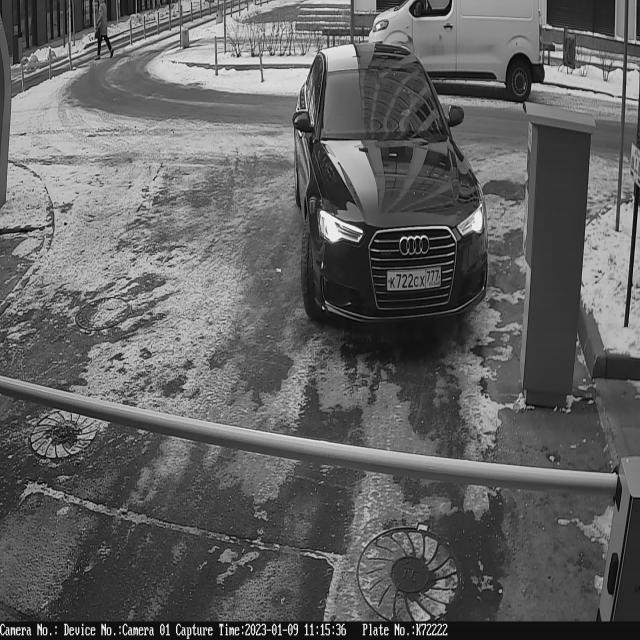car-plate-numbers: (385, 265, 446, 299)
